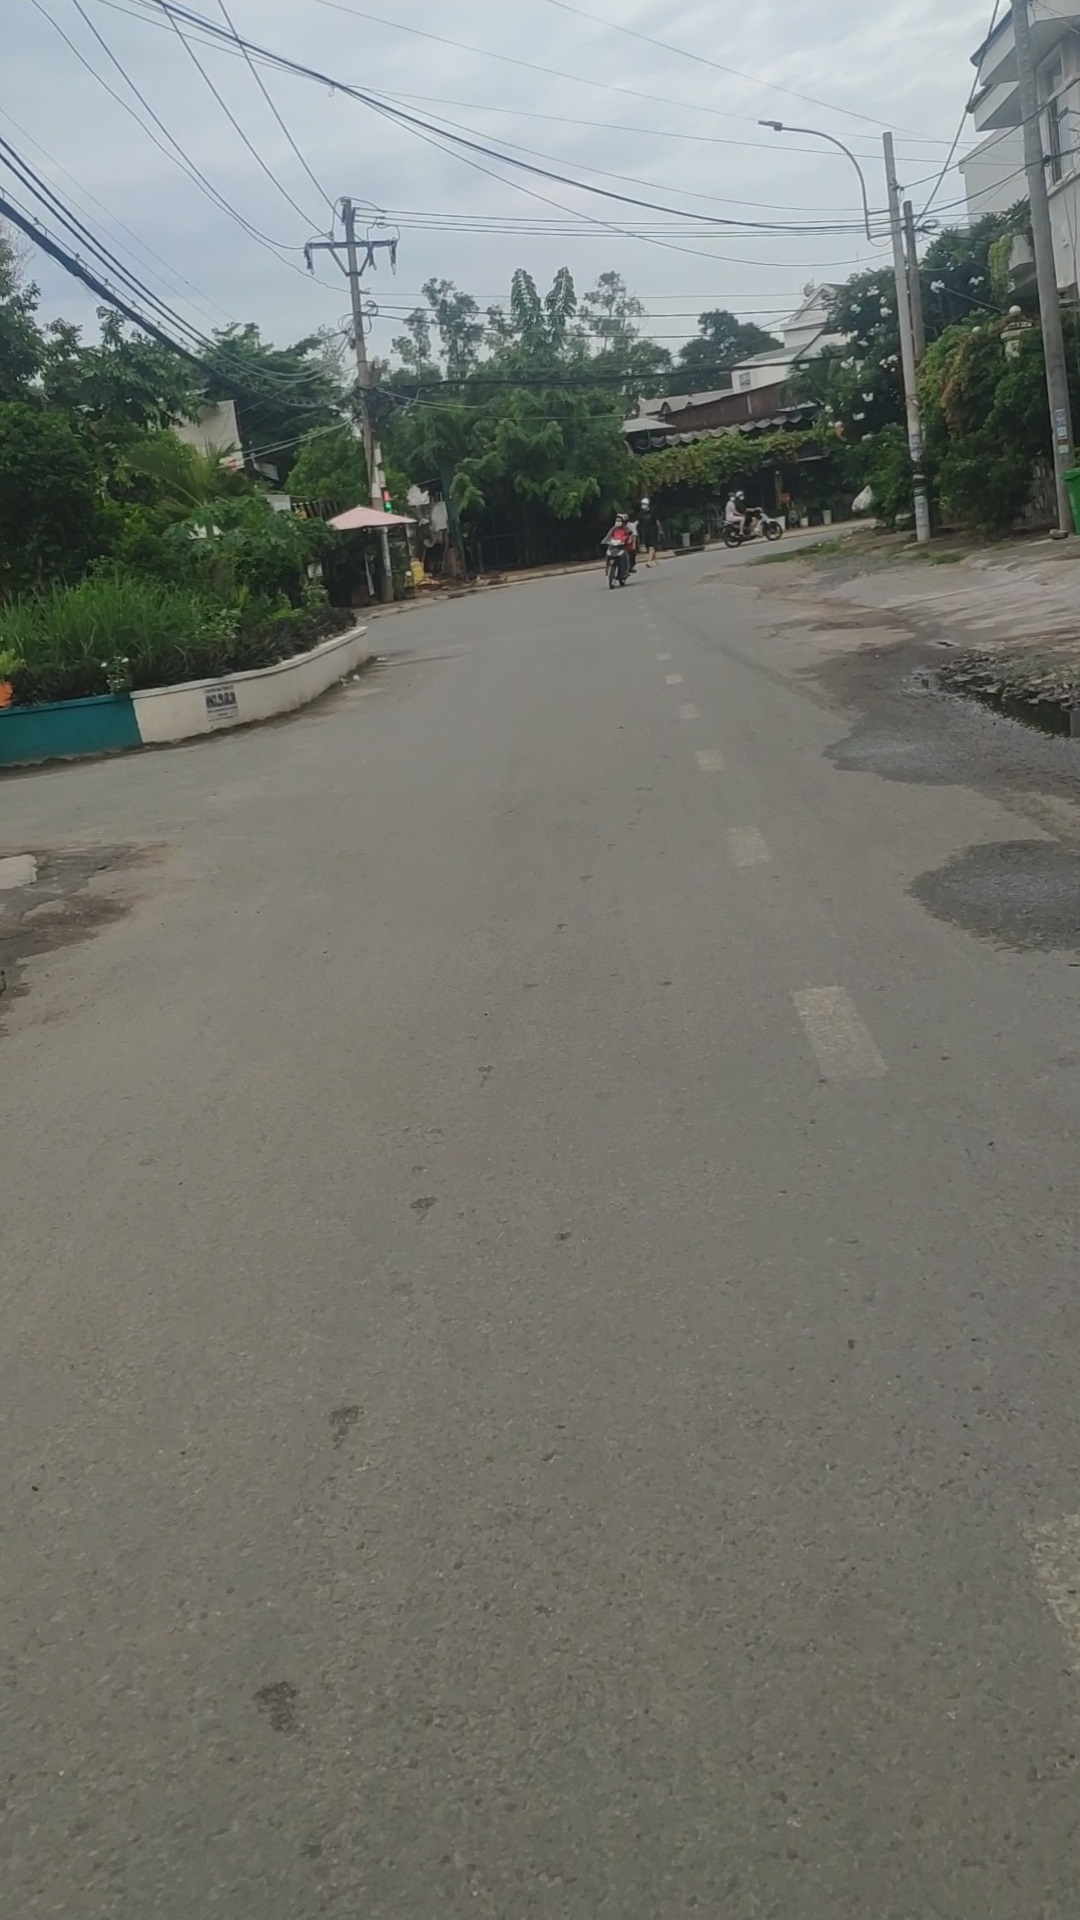hole: (894, 655, 1080, 740), (928, 637, 960, 651)
